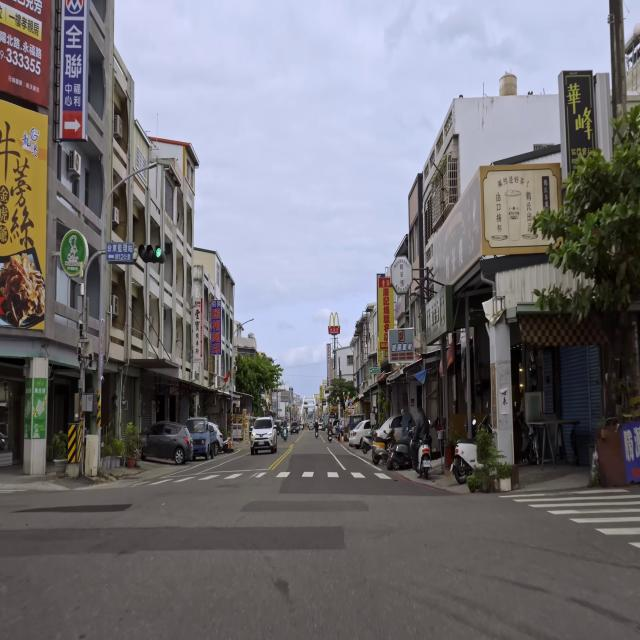green light: (138, 244, 164, 262)
